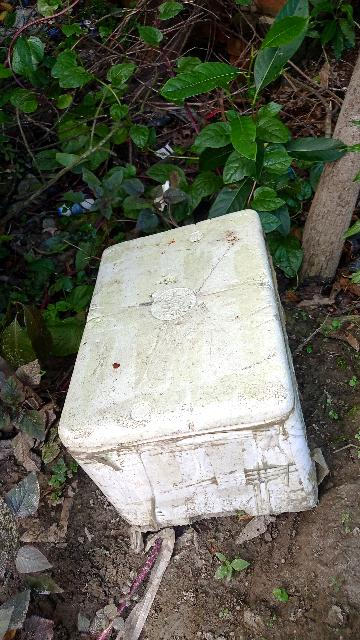cocksheet: (75, 198, 317, 535)
